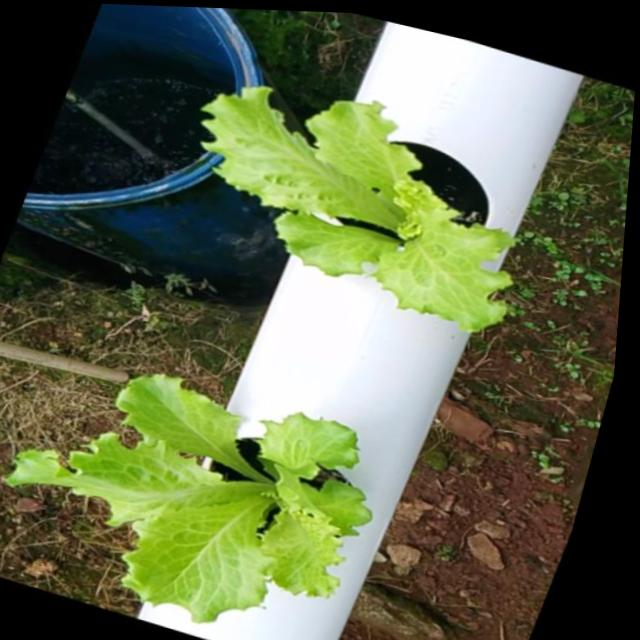Baby: (8, 377, 376, 629), (204, 84, 519, 333)
